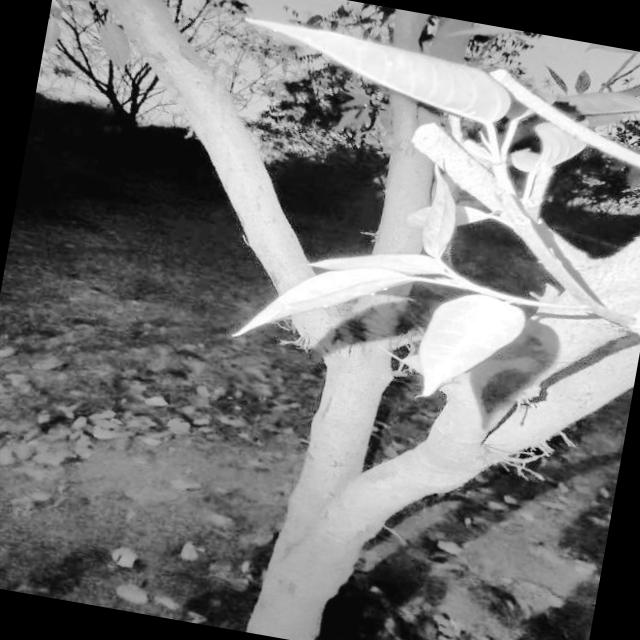Tree: (79, 0, 640, 640)
